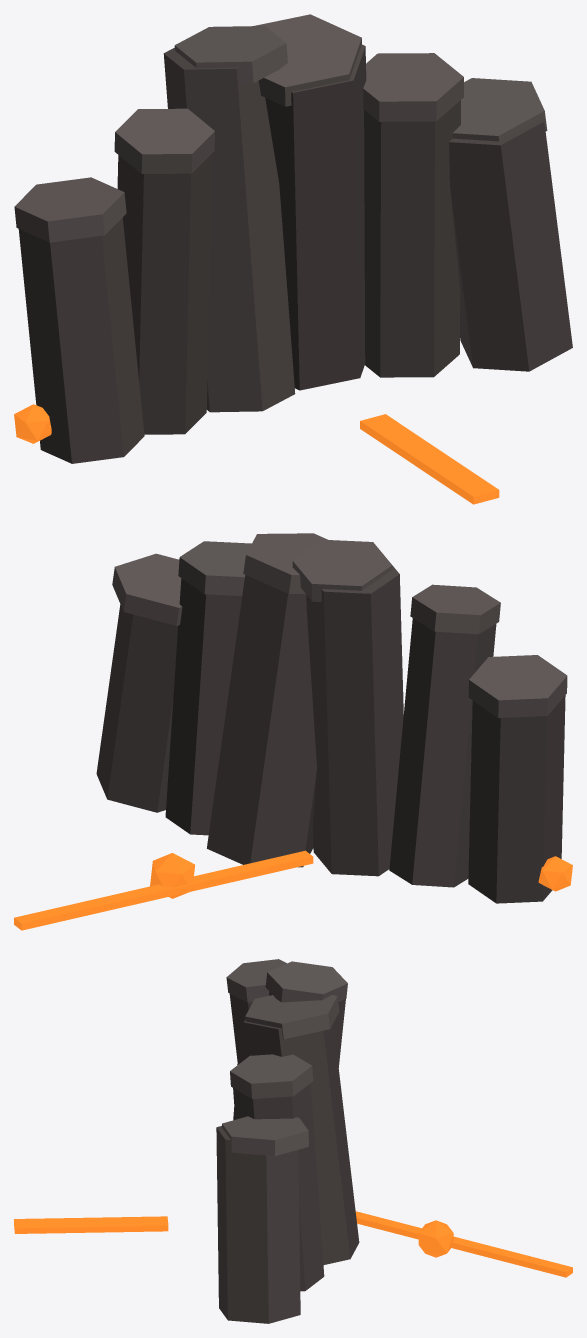
Rendered from runtime.glb.
3 views of the same model, one above another, from view 1: azimuth 30°, elevation 25°; view 2: azimuth 150°, elevation 25°; view 3: azimuth 270°, elevation 25° (orthographic). The views are drawn at different scales.
Parts seen in each view (by area): view 1: magma_outcrop_basalt_nocol, magma_outcrop_cap_noshadow_nocol, magma_outcrop_lava_noshadow_nocol; view 2: magma_outcrop_basalt_nocol, magma_outcrop_cap_noshadow_nocol, magma_outcrop_lava_noshadow_nocol; view 3: magma_outcrop_basalt_nocol, magma_outcrop_cap_noshadow_nocol, magma_outcrop_lava_noshadow_nocol.
Boxes of the visible parts, x1,y1,x2,y2 form: magma_outcrop_basalt_nocol: [18, 44, 572, 463]; magma_outcrop_cap_noshadow_nocol: [14, 14, 547, 242]; magma_outcrop_lava_noshadow_nocol: [14, 404, 499, 504]; magma_outcrop_basalt_nocol: [96, 565, 565, 903]; magma_outcrop_cap_noshadow_nocol: [112, 533, 567, 717]; magma_outcrop_lava_noshadow_nocol: [14, 850, 572, 930]; magma_outcrop_basalt_nocol: [216, 968, 359, 1323]; magma_outcrop_cap_noshadow_nocol: [222, 959, 347, 1156]; magma_outcrop_lava_noshadow_nocol: [14, 1211, 572, 1277].
Size of the model in its own units: 4.29 by 2.67 by 5.34.
